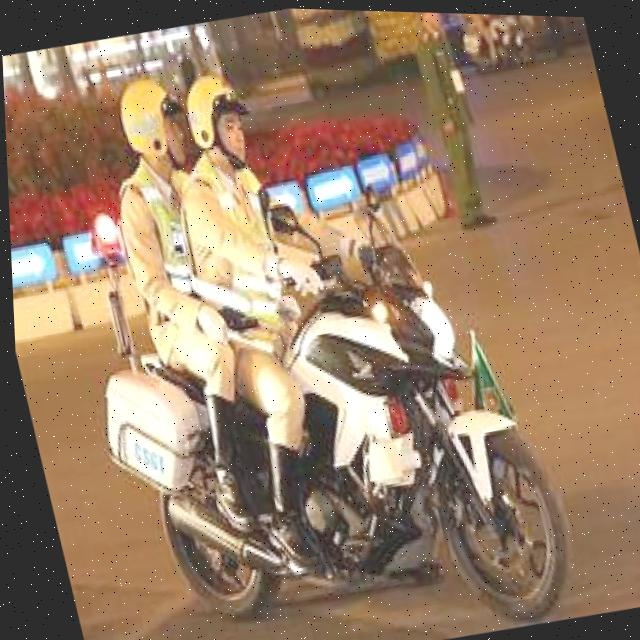motorcycle: (49, 148, 594, 640)
